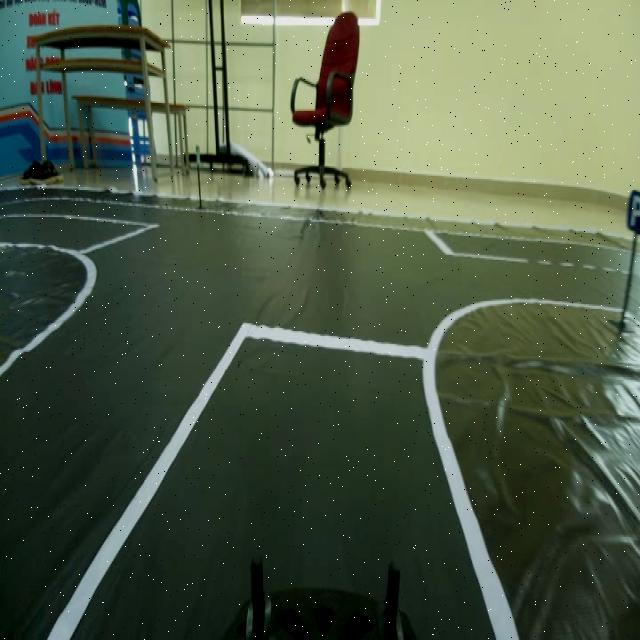parking: (624, 181, 640, 232)
